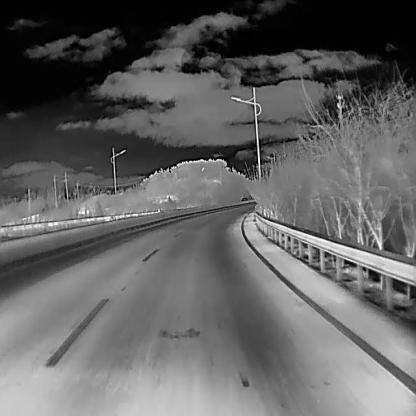car: (241, 196, 247, 202)
